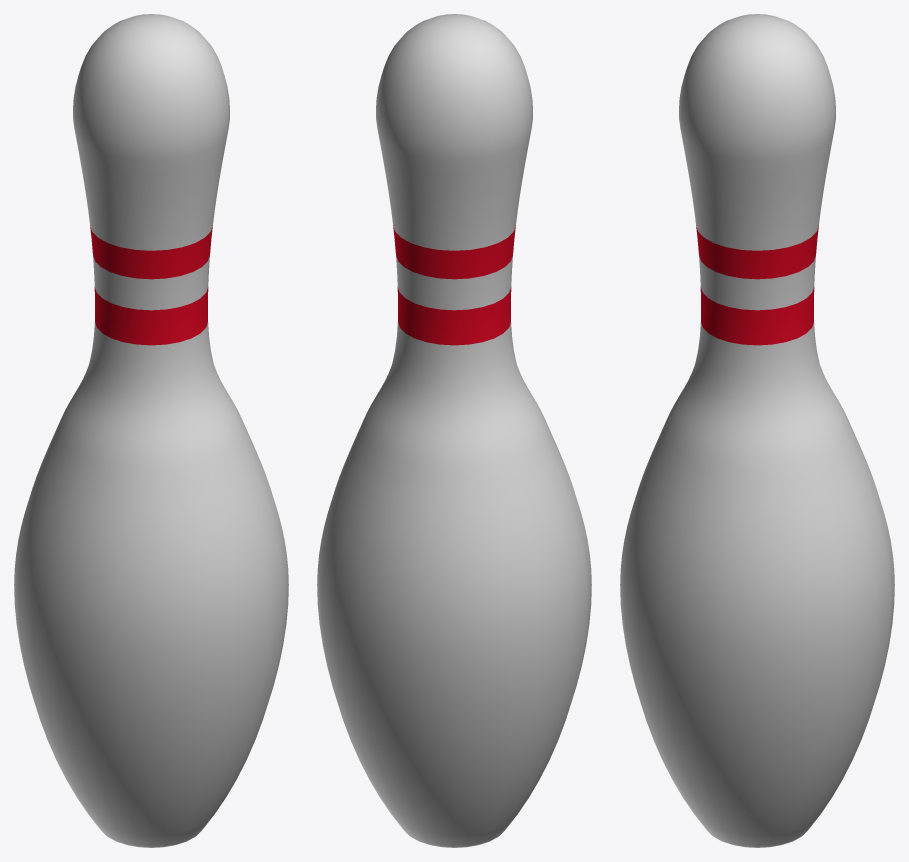
Rendered from bowlingpin.fbx.
3 renders of one model, left to right at view 1: azimuth 30°, elevation 25°; view 2: azimuth 150°, elevation 25°; view 3: azimuth 270°, elevation 25°, orthographic.
Visible parts, largest first — view 1: pin; view 2: pin; view 3: pin.
Part boxes in pixels (x1,y1,x2,y2): pin: (14, 14, 288, 847); pin: (317, 14, 591, 847); pin: (620, 14, 894, 847).
Bounding box in the file's own units: 371 × 1208 × 371.
